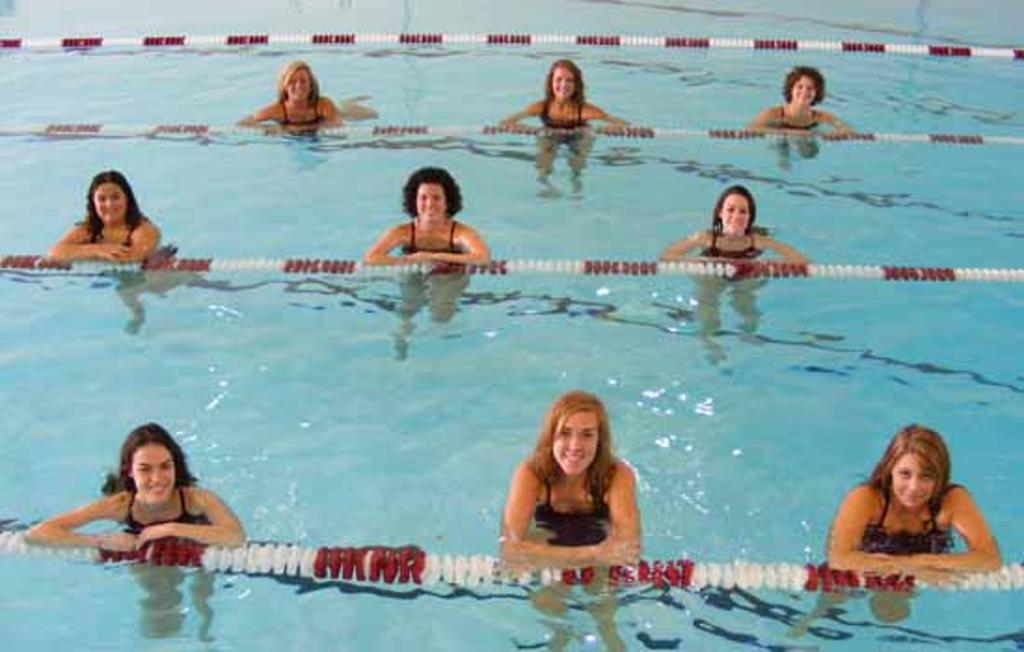face: (552, 410, 596, 476), (131, 444, 175, 506), (892, 451, 935, 506), (93, 182, 125, 225), (416, 183, 445, 222), (723, 193, 747, 233), (552, 66, 574, 99), (792, 75, 815, 106), (287, 68, 308, 101)
